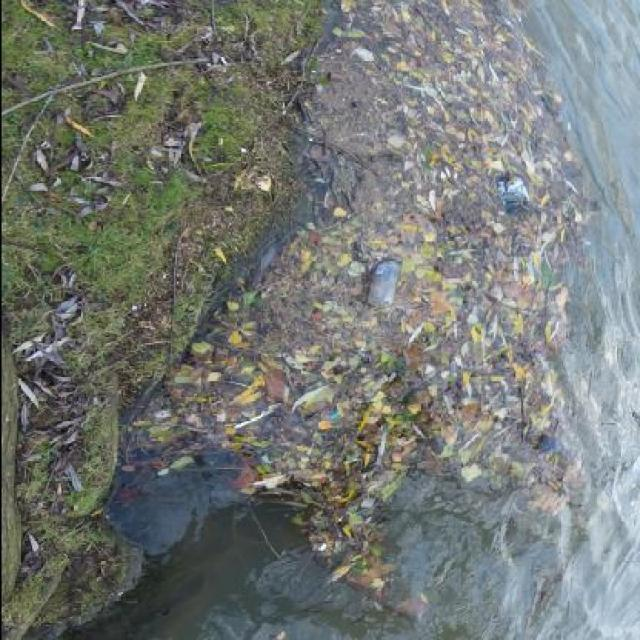plastic: (367, 260, 398, 308)
